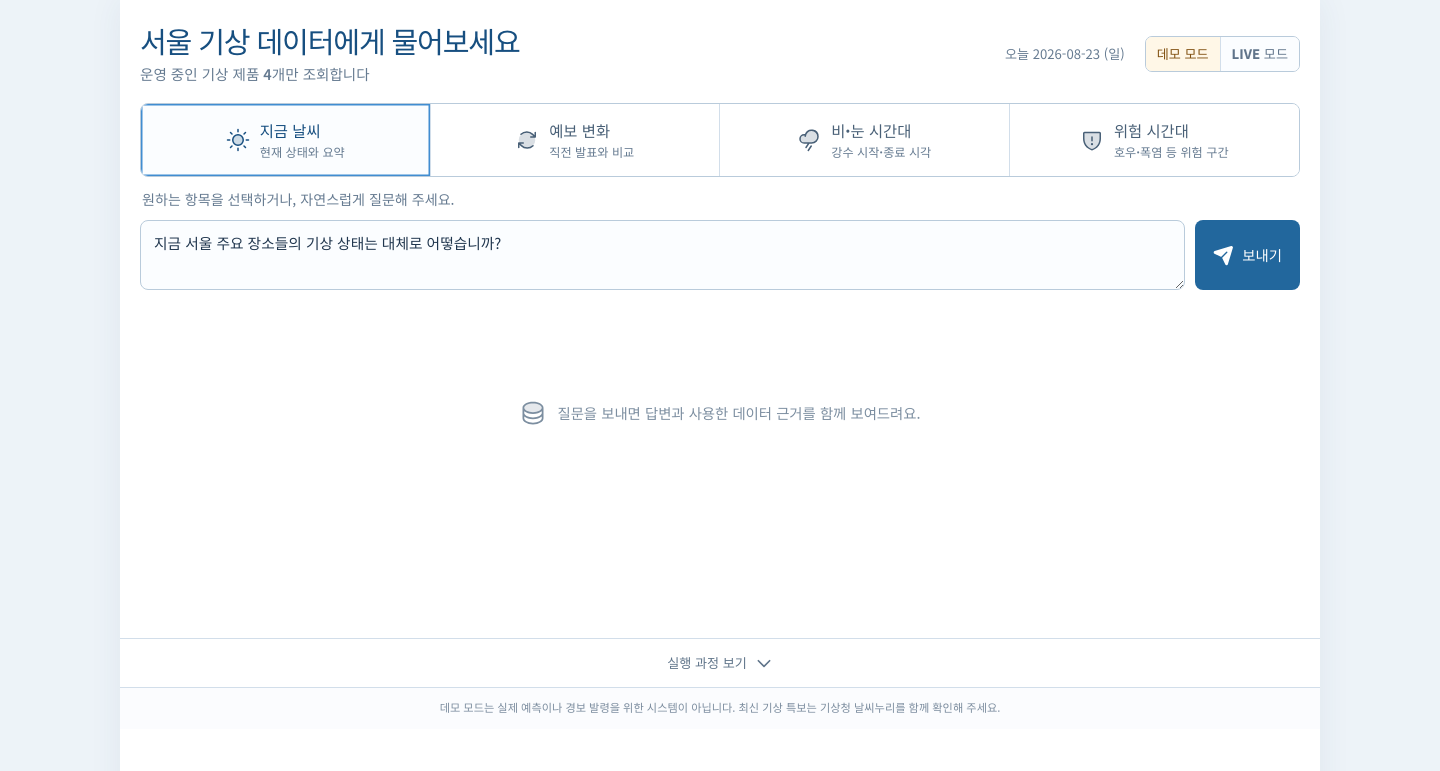
ASK Seoul 기상 에이전트 UI › 장소별 예보 변화 근거를 원본 JSON 대신 한국어 표로 먼저 보여준다
The image size is (1440, 771).
Expected: the navigation bar named "기상 질문 유형" is shown, 140,103 -> 1300,177
Click the tab "예보 변화 직전 발표와 비교": (575, 140) 430,104 -> 720,176
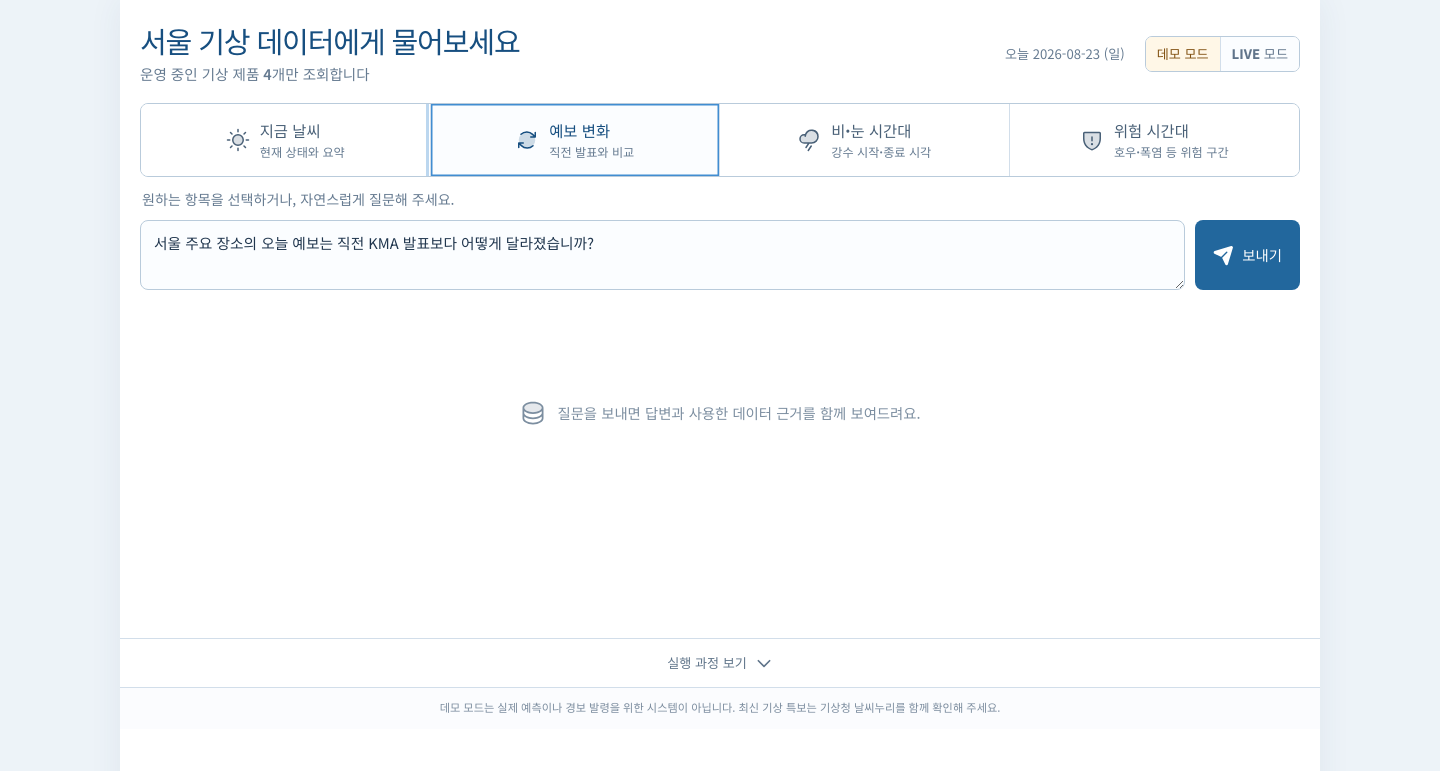
Click the button with aria-label "질문 보내기": (1248, 255) 1195,220 -> 1300,290
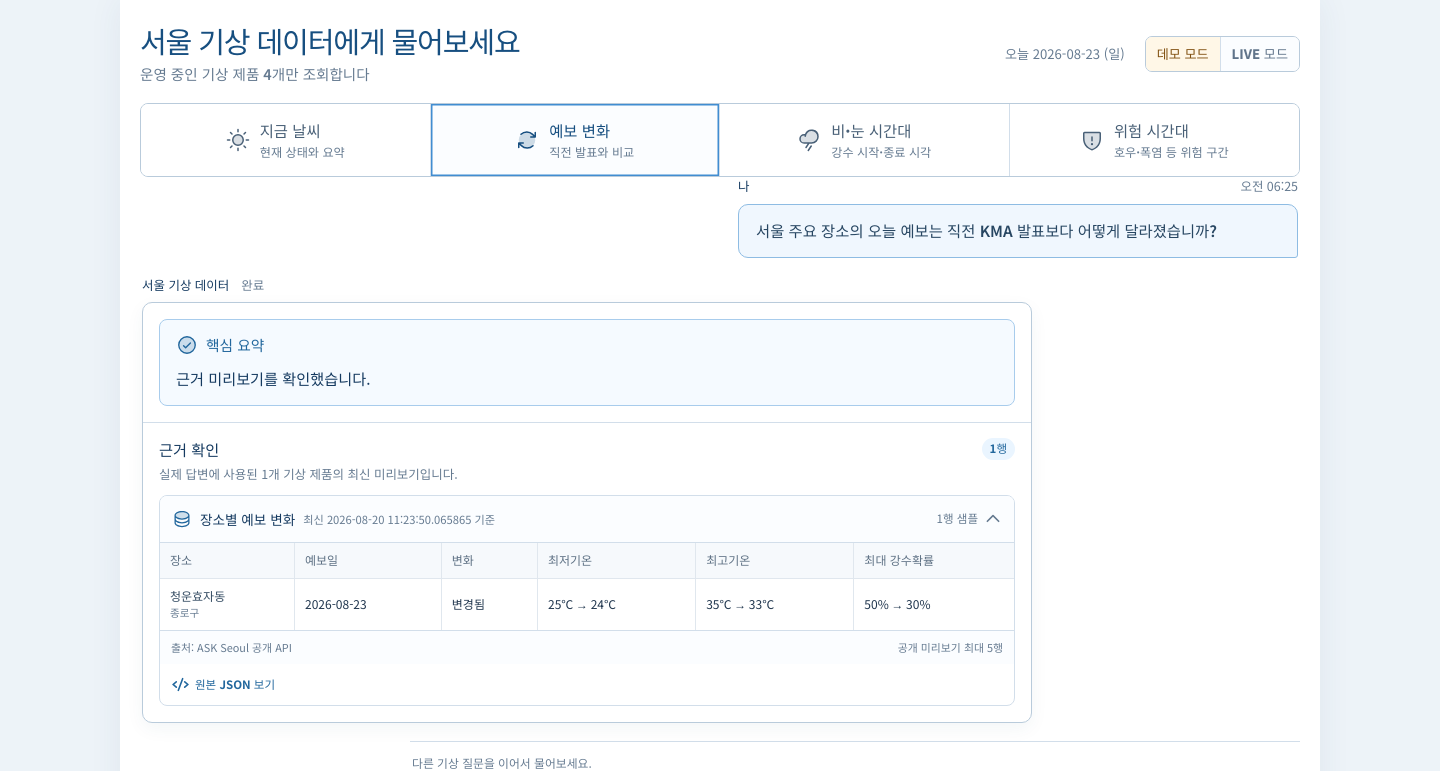
Now the element named "서울 기상 데이터 답변" is shown, box 142,276 -> 1032,724
Now the text "장소별 예보 변화" is shown, box 200,509 -> 295,530
Now the text "청운효자동" is shown, box 170,587 -> 225,604
Click the button "원본 JSON 보기": (224, 684) 170,672 -> 277,697
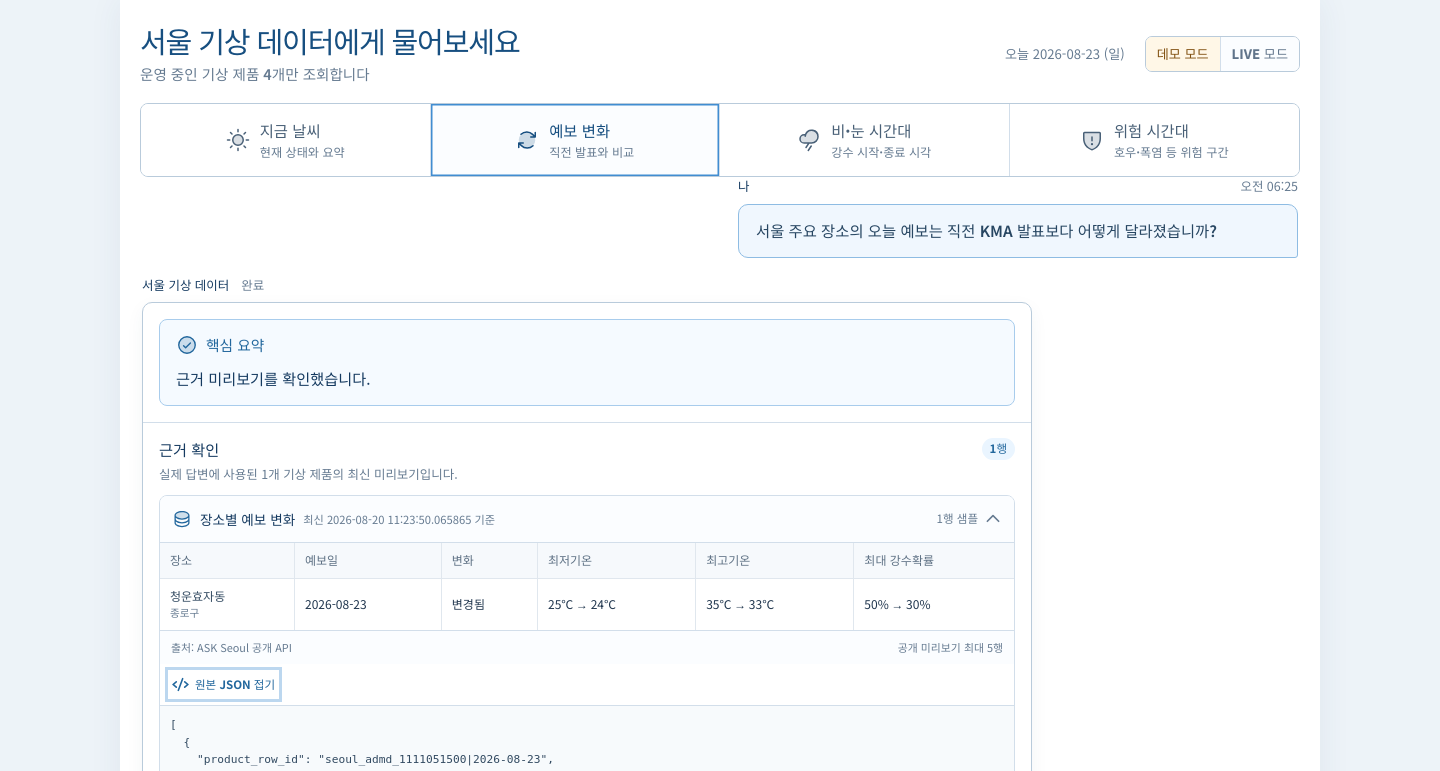
Now the button "원본 JSON 접기" is shown, box 170,672 -> 277,697
